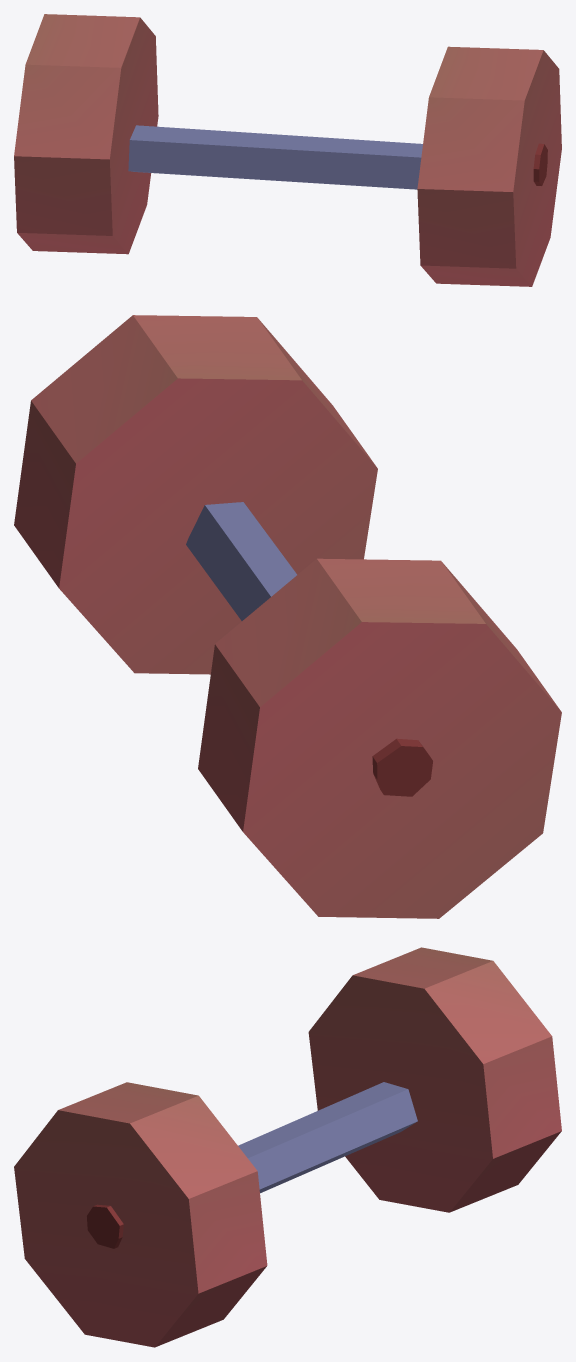
The model's file is Gym_Dumbells__Dum1.fbx.
The picture shows the model from 3 angles, top to bottom: view 1: azimuth 30°, elevation 25°; view 2: azimuth 150°, elevation 25°; view 3: azimuth 270°, elevation 25°; orthographic projection. The views are drawn at different scales.
Parts seen in each view (by area): view 1: Gym_Dumbells__Dum1; view 2: Gym_Dumbells__Dum1; view 3: Gym_Dumbells__Dum1.
Boxes of the visible parts, <box> form: Gym_Dumbells__Dum1: <box>14,14,561,286</box>; Gym_Dumbells__Dum1: <box>14,315,561,918</box>; Gym_Dumbells__Dum1: <box>14,947,561,1347</box>.
Size of the model in its own units: 40.34 by 18.42 by 38.6.
